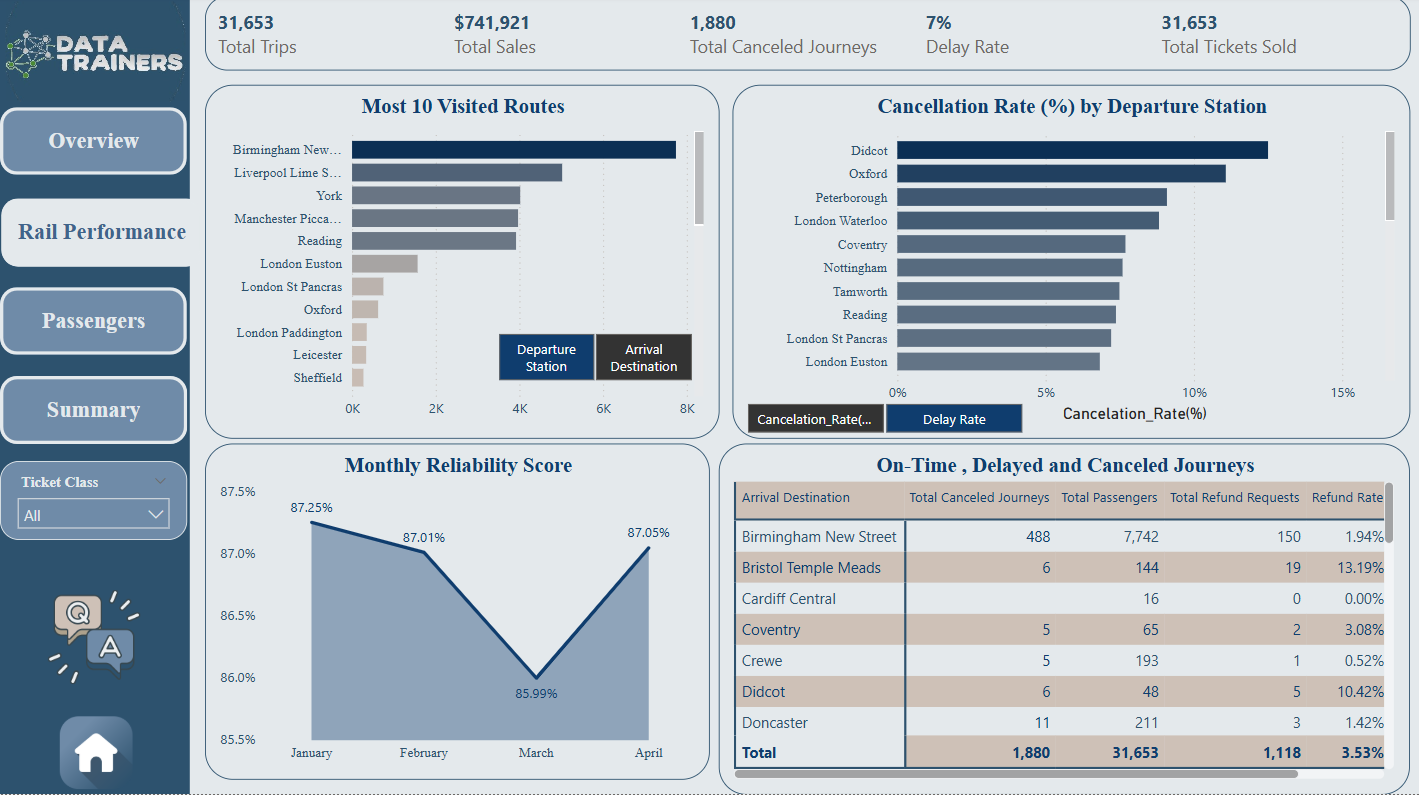

The page's visual inventory and layout, read from the dashboard file:
{"tool":"powerbi","page":{"name":"Rail Performance","canvas":[1280,720],"ordinal":3},"visuals":[{"type":"shape","box":[0,0,171.2,720.2],"z":0},{"type":"image","box":[0,0,172,100],"z":1000},{"type":"actionButton","box":[0,342.9,169,61.4],"z":2000},{"type":"actionButton","box":[0,262.9,169,61],"z":3000},{"type":"actionButton","box":[1.4,182.9,182,61.4],"z":4000},{"type":"actionButton","box":[0,100,169,61],"z":5000},{"type":"image","box":[1.4,644.3,171.4,75.7],"z":6000},{"type":"image","box":[0,531.4,170,94.3],"z":7000},{"type":"multiRowCard","fields":{"Values":["_Measures.Total Trips","_Measures.Total Sales","_Measures.Total Canceled Journeys","_Measures.Delay Rate","_Measures.Total Tickets Sold"]},"box":[184.6,0,1087.1,67.3],"z":8000},{"type":"areaChart","title":"Monthly Reliability Score","fields":{"Category":["Dim_Calendar.Month"],"Y":["_Measures.Monthly Reliability Score (%)"]},"box":[184.5,403.9,455.1,303],"z":9000},{"type":"clusteredBarChart","title":"Most 10 Visited Routes","fields":{"Category":["Dim_Departure.Departure Station","Dim_Arrival.Arrival Destination"],"Y":["_Measures.Total Trips"]},"box":[184.5,79.8,463.8,319.2],"z":10000},{"type":"pivotTable","title":"On-Time , Delayed and Canceled Journeys","fields":{"Values":["_Measures.Total Canceled Journeys","_Measures.Total Passengers","_Measures.Total Refund Requests","_Measures.Refund Rate","_Measures._Refund"],"Rows":["Dim_Arrival.Arrival Destination"]},"box":[648.3,403.9,623.4,316.7],"z":11000},{"type":"slicer","fields":{"Values":["Departure Arrival.Departure Arrival"]},"box":[424.3,297.1,223.8,52.6],"z":12000},{"type":"slicer","fields":{"Values":["Dim_Ticket.Ticket Class"]},"box":[0,419.8,168.6,70.9],"z":13000},{"type":"clusteredBarChart","title":"Cancellation Rate (%) by Departure Station","fields":{"Category":["Dim_Departure.Departure Station","Dim_Arrival.Arrival Destination"],"Y":["_Measures.Cancelation_Rate(%)"]},"box":[660.8,79.8,610.9,319.2],"z":14000},{"type":"slicer","fields":{"Values":["Cancel and Delay.Cancel and Delay"]},"box":[648.3,360.3,298,38.6],"z":15000}]}

Visuals, with their boxes in screenshot pixels (x1, y1, x2, y2), scaled from the page's 1280x720 canvas onto the 1419x795 screenshot:
shape: x1=0, y1=0, x2=190, y2=794
image: x1=0, y1=0, x2=191, y2=110
actionButton: x1=0, y1=379, x2=187, y2=446
actionButton: x1=0, y1=290, x2=187, y2=358
actionButton: x1=2, y1=202, x2=203, y2=270
actionButton: x1=0, y1=110, x2=187, y2=178
image: x1=2, y1=711, x2=192, y2=794
image: x1=0, y1=587, x2=188, y2=691
multiRowCard - _Measures.Total Trips x _Measures.Total Sales: x1=205, y1=0, x2=1410, y2=74
"Monthly Reliability Score" areaChart: x1=205, y1=446, x2=709, y2=781
"Most 10 Visited Routes" clusteredBarChart: x1=205, y1=88, x2=719, y2=441
"On-Time , Delayed and Canceled Journeys" pivotTable: x1=719, y1=446, x2=1410, y2=794
slicer - Departure Arrival.Departure Arrival: x1=470, y1=328, x2=718, y2=386
slicer - Dim_Ticket.Ticket Class: x1=0, y1=464, x2=187, y2=542
"Cancellation Rate (%) by Departure Station" clusteredBarChart: x1=733, y1=88, x2=1410, y2=441
slicer - Cancel and Delay.Cancel and Delay: x1=719, y1=398, x2=1049, y2=440
